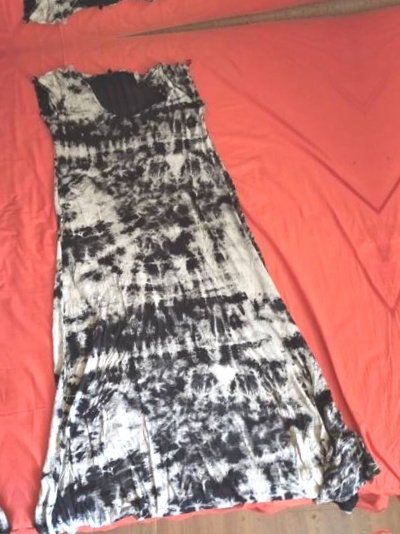Dress: (0, 10, 388, 534), (0, 0, 319, 57), (381, 0, 400, 493), (0, 63, 13, 534)
